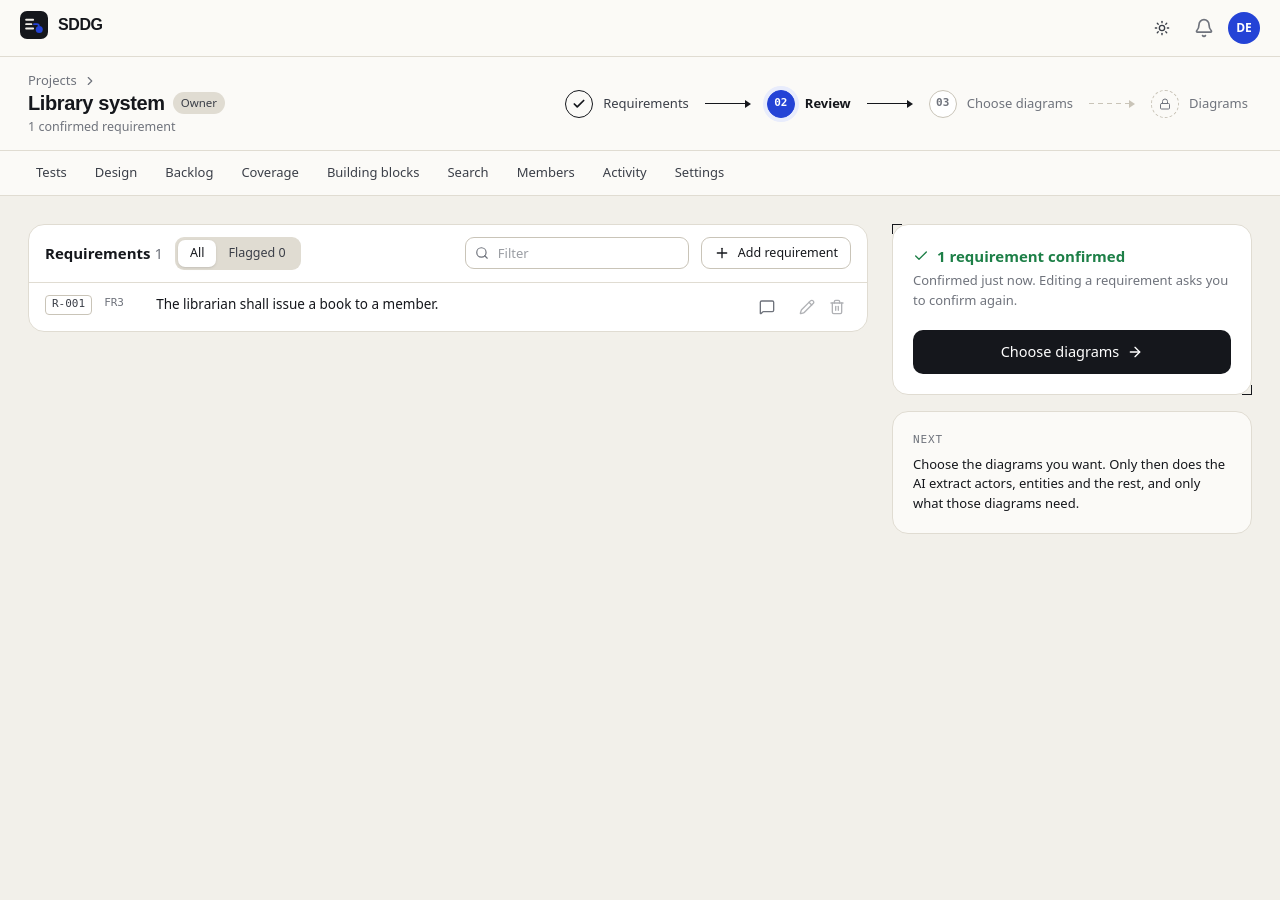
Test: requirements-first review › editing a requirement clears the confirmation and the building blocks
expect the button "Choose diagrams" is shown: met, box [913,330,1231,374]
Click the button named "Edit R-001": (807, 306) [793,292,821,320]
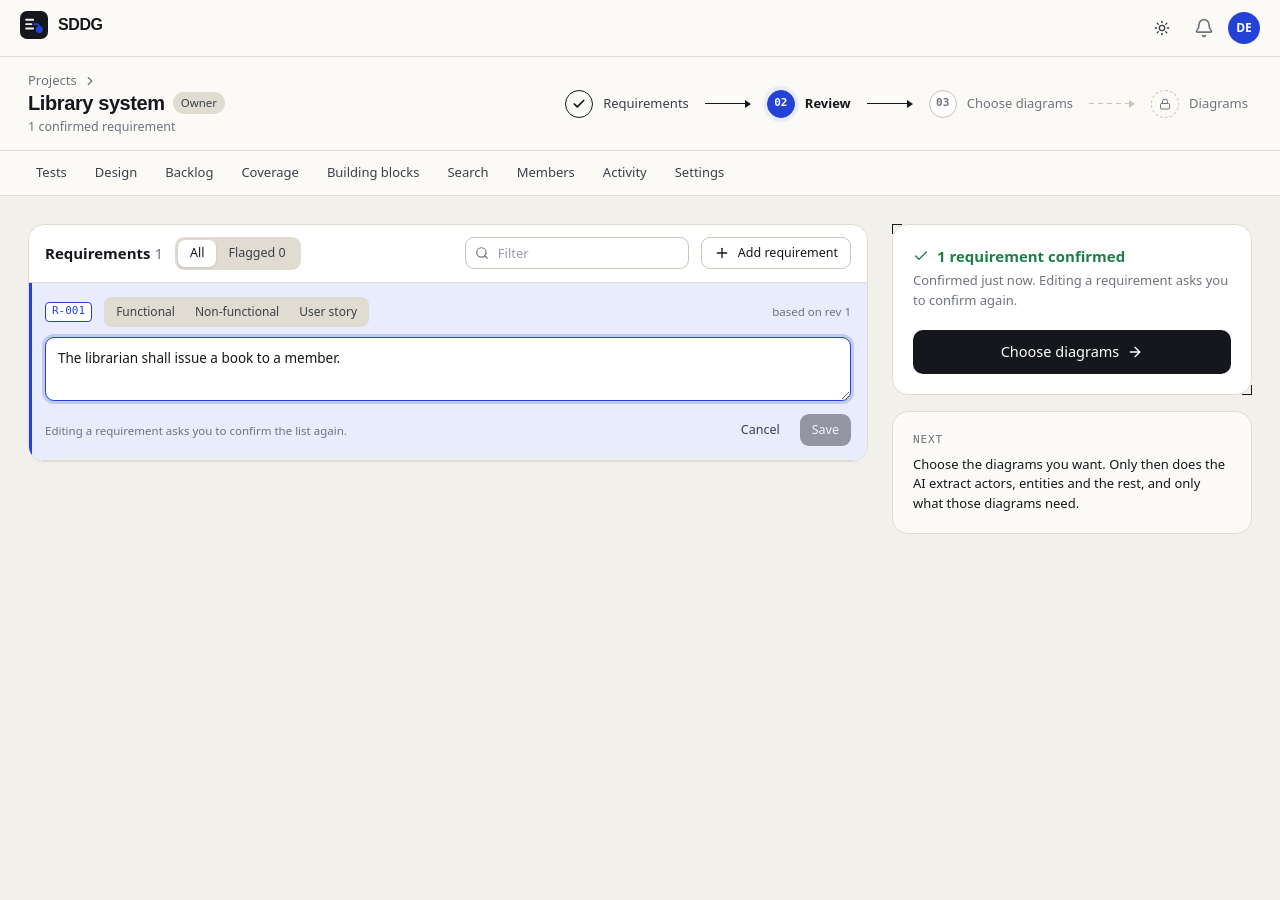
Clear the text box named "Requirement text": (448, 368) [45,336,851,400]
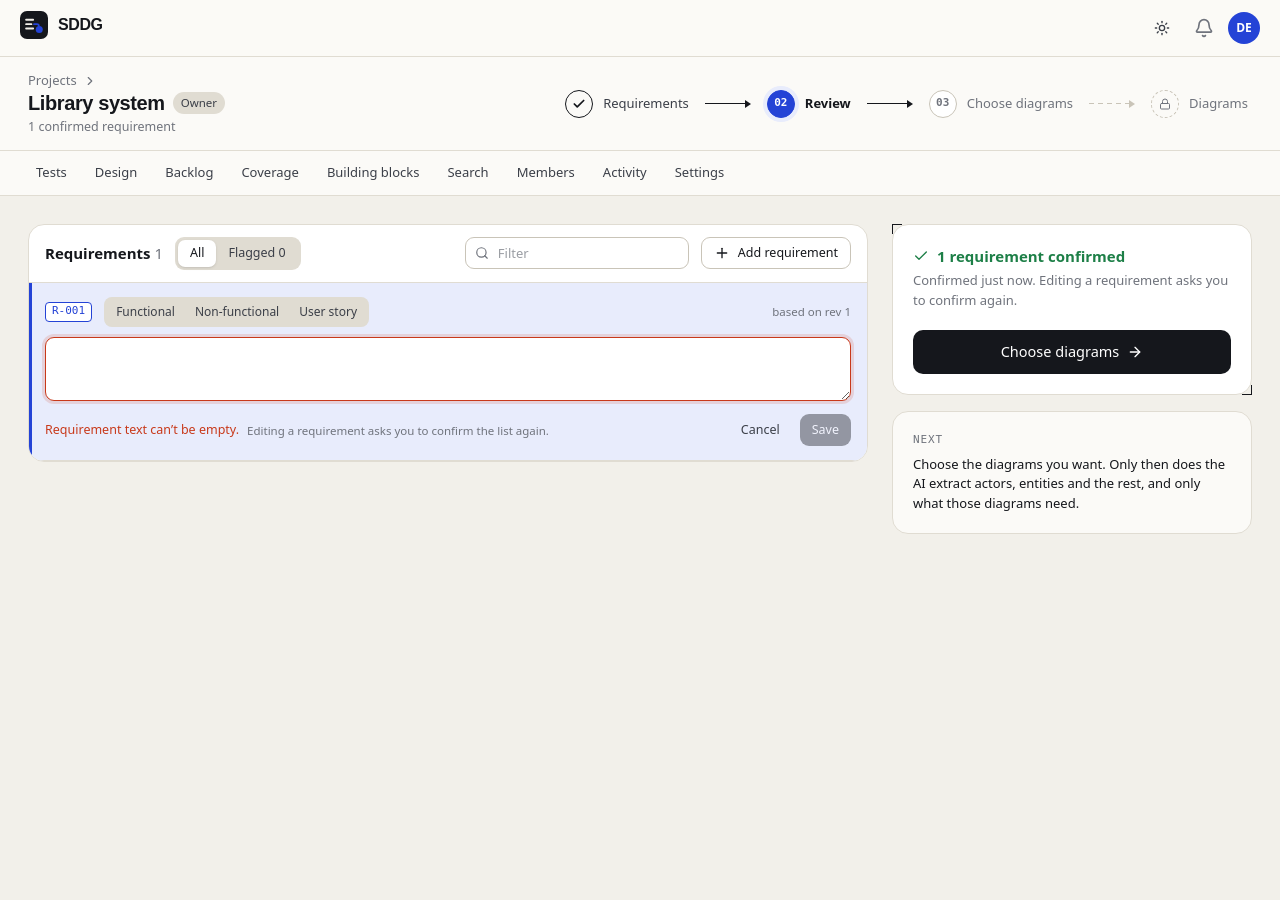
expect the button "Save" is disabled: met, box [800,414,851,446]
expect the text "Requirement text can’t be empty." is shown: met, box [45,421,239,440]
In the text box named "Requirement text": (448, 368) [45,336,851,400], type "The librarian shall lend a book to a member."
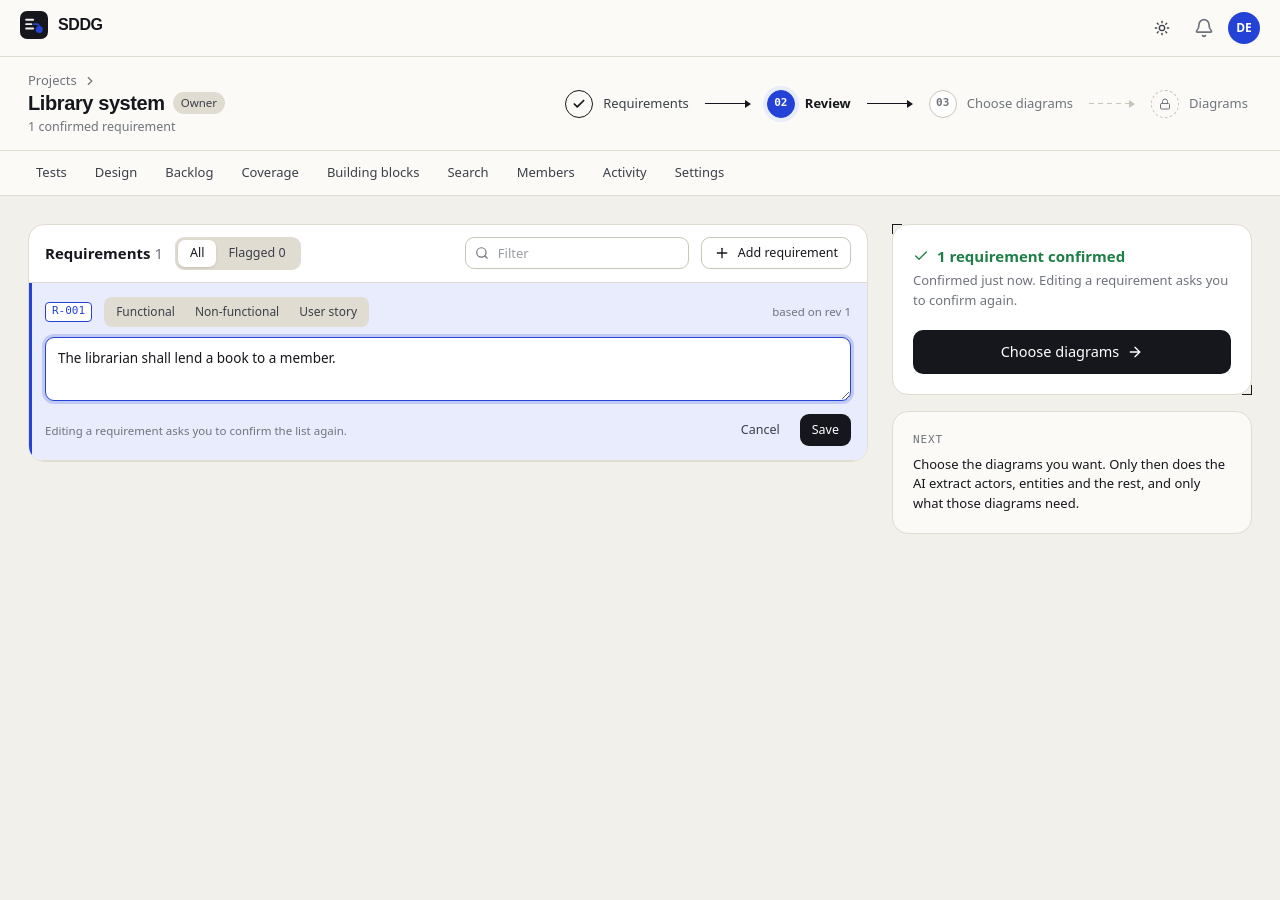
Click the button "Save": (825, 430) [800,414,851,446]
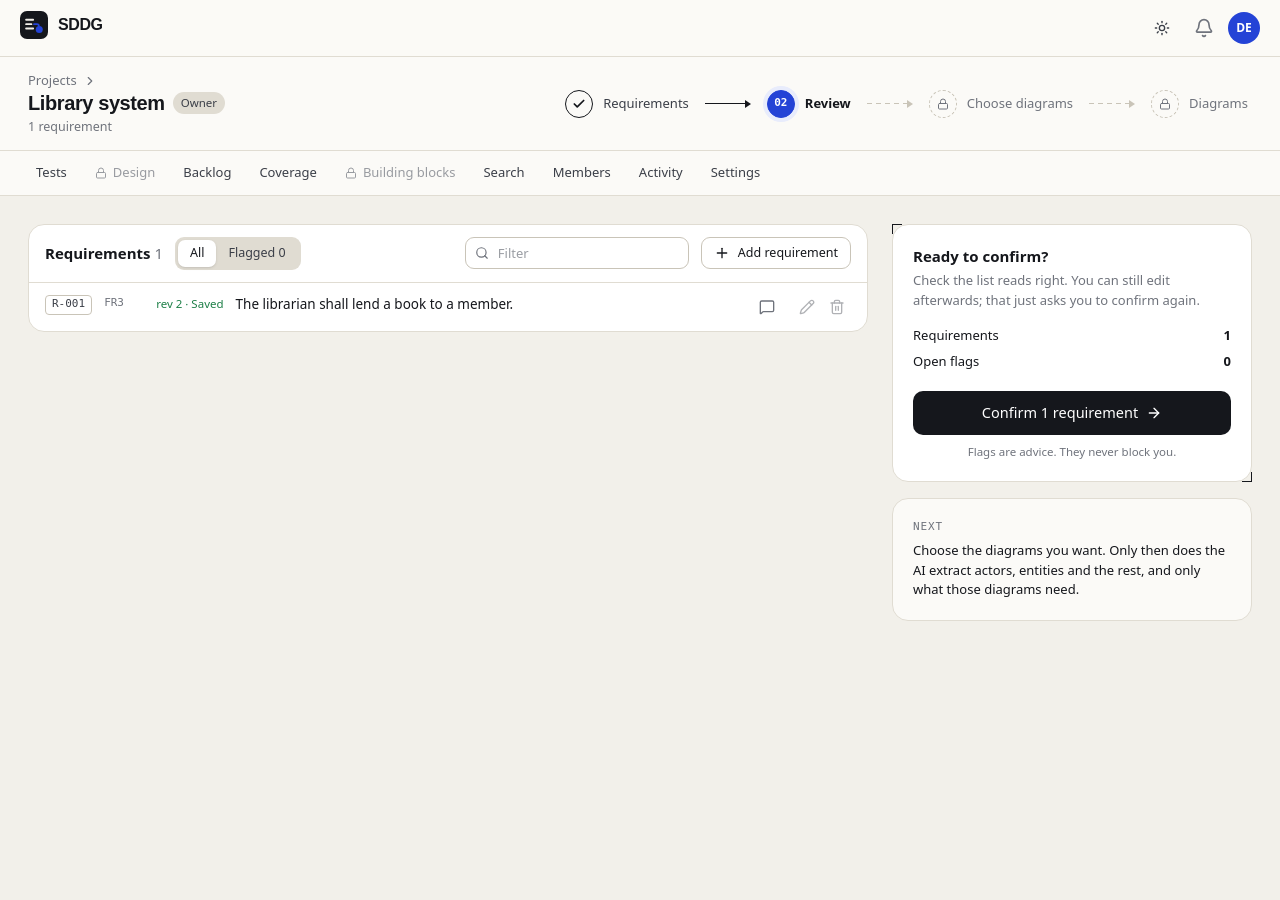
expect the text "The librarian shall lend a book to a member." is shown: met, box [236,294,513,312]
expect the button "Confirm 1 requirement" is shown: met, box [913,391,1231,435]
